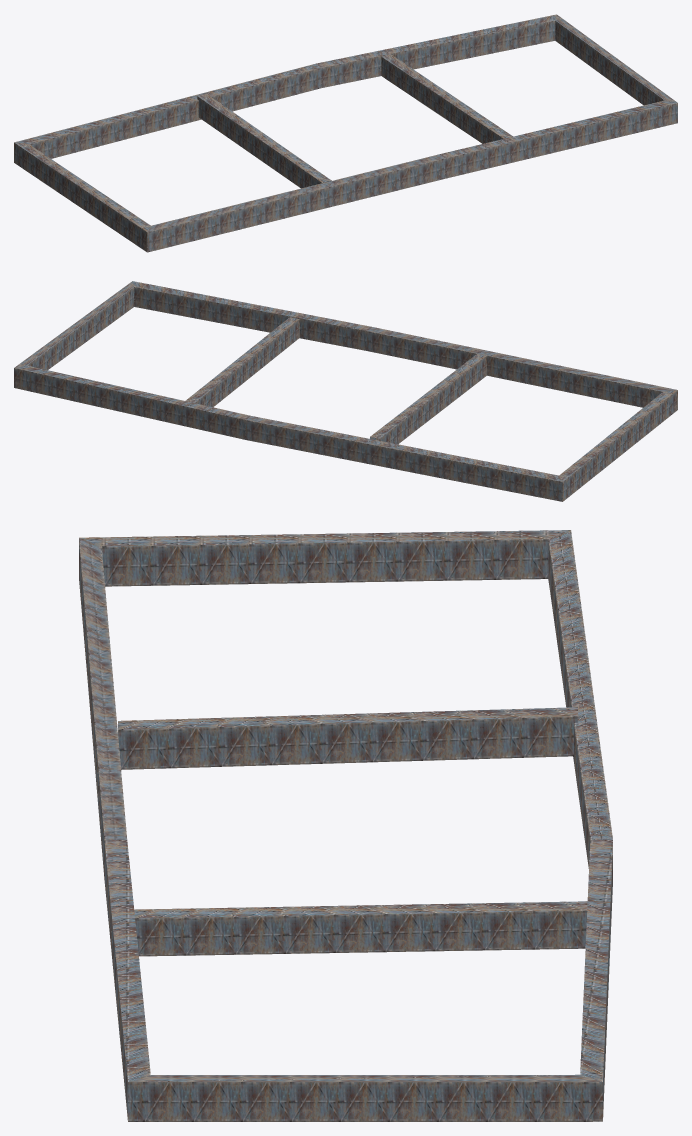
The model's file is rbridge3_girders.obj.
3 views of the same model, one above another, from view 1: azimuth 30°, elevation 25°; view 2: azimuth 150°, elevation 25°; view 3: azimuth 270°, elevation 25° (orthographic). The views are drawn at different scales.
Parts seen in each view (by area): view 1: rbridge3_girders; view 2: rbridge3_girders; view 3: rbridge3_girders.
Part boxes in pixels (box(x1,y1,x2,y2)): rbridge3_girders: box(14, 14, 677, 252); rbridge3_girders: box(14, 281, 677, 501); rbridge3_girders: box(79, 530, 612, 1121).
Bounding box in the file's own units: 76.5 × 4.32 × 32.72.
